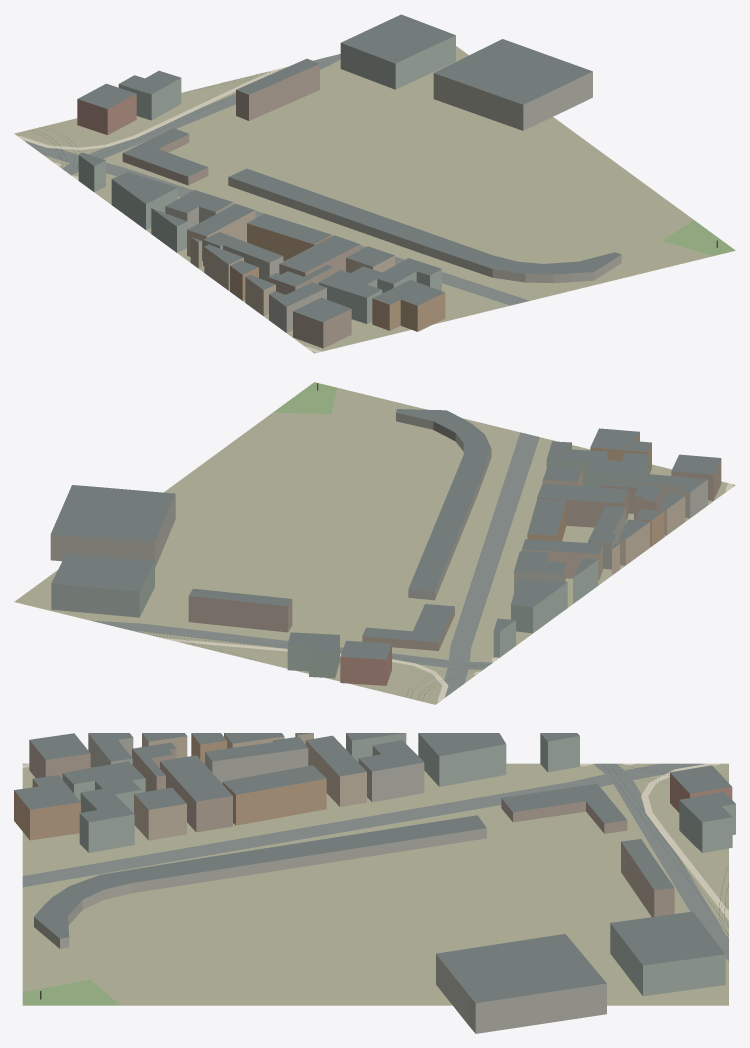
The model's file is sector--4_-4.glb.
3 views of the same model, one above another, from view 1: azimuth 30°, elevation 25°; view 2: azimuth 150°, elevation 25°; view 3: azimuth 270°, elevation 25° (orthographic). The views are drawn at different scales.
Visible parts, largest first — view 1: -4:-4-ground, -4:-4-facade, -4:-4-roof, -4:-4-road, -4:-4-park, -4:-4-paving; view 2: -4:-4-ground, -4:-4-roof, -4:-4-facade, -4:-4-road, -4:-4-park, -4:-4-paving; view 3: -4:-4-ground, -4:-4-facade, -4:-4-roof, -4:-4-road, -4:-4-park, -4:-4-paving.
Part boxes in pixels (bbox=[...]): -4:-4-ground: bbox=[14, 46, 712, 353]; -4:-4-facade: bbox=[77, 35, 621, 348]; -4:-4-roof: bbox=[78, 14, 621, 322]; -4:-4-road: bbox=[25, 54, 529, 305]; -4:-4-park: bbox=[662, 220, 735, 255]; -4:-4-paving: bbox=[18, 67, 321, 352]; -4:-4-ground: bbox=[14, 388, 735, 704]; -4:-4-roof: bbox=[51, 409, 721, 659]; -4:-4-facade: bbox=[50, 412, 721, 685]; -4:-4-road: bbox=[91, 432, 539, 696]; -4:-4-park: bbox=[273, 382, 336, 413]; -4:-4-paving: bbox=[163, 483, 733, 701]; -4:-4-ground: bbox=[22, 763, 728, 1005]; -4:-4-facade: bbox=[14, 733, 735, 1033]; -4:-4-roof: bbox=[14, 733, 735, 1003]; -4:-4-road: bbox=[22, 763, 728, 960]; -4:-4-park: bbox=[22, 979, 120, 1005]; -4:-4-paving: bbox=[22, 763, 728, 919].
Bounding box in the file's own units: 181 × 9.6 × 204.
